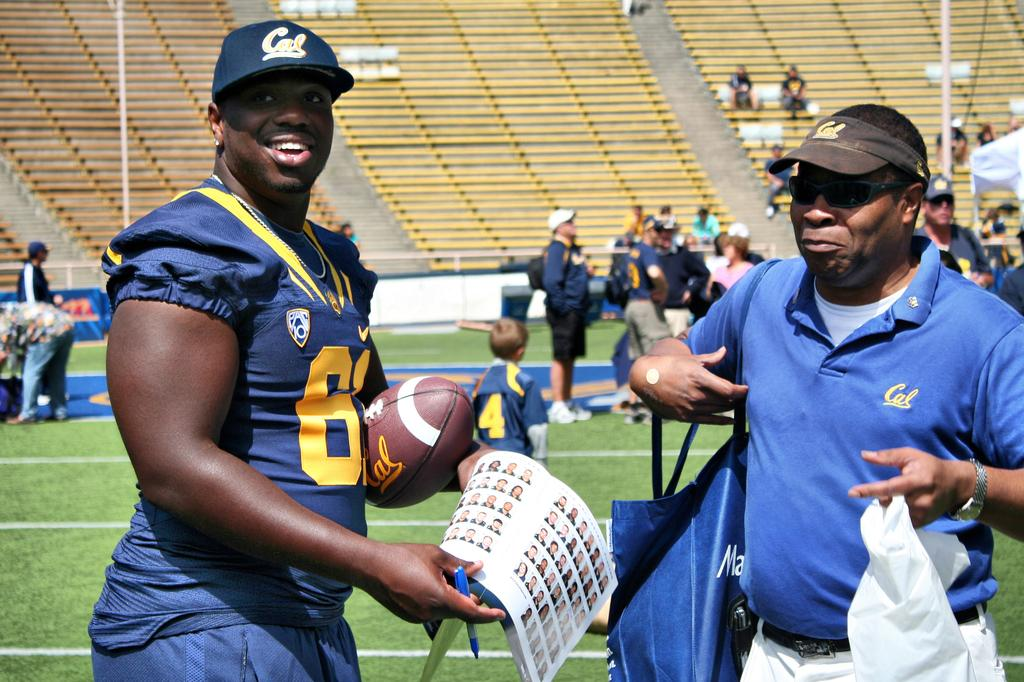Hat: (210, 15, 356, 100), (918, 172, 956, 204), (547, 206, 577, 230), (724, 220, 749, 239), (30, 239, 52, 256)
